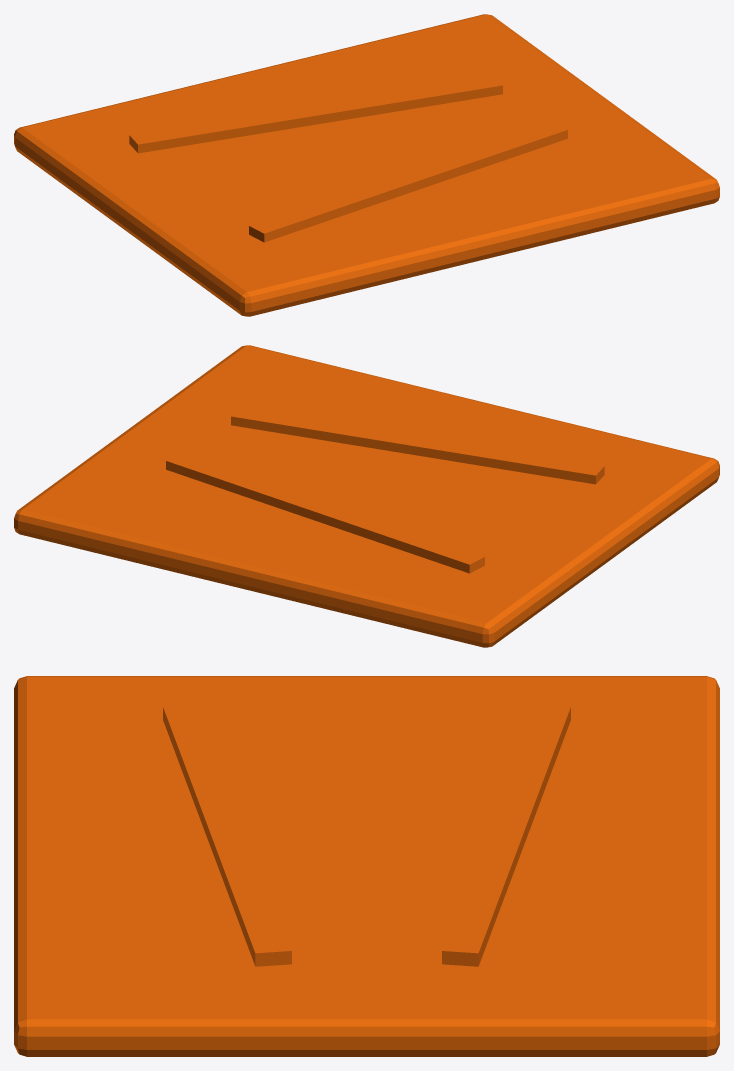
File: hood.obj
3 renders of one model, top to bottom at view 1: azimuth 30°, elevation 25°; view 2: azimuth 150°, elevation 25°; view 3: azimuth 270°, elevation 25°, orthographic. The views are drawn at different scales.
Parts seen in each view (by area): view 1: Cube; view 2: Cube; view 3: Cube.
Boxes of the visible parts, x1,y1,x2,y2 form: Cube: [14, 14, 719, 316]; Cube: [14, 345, 719, 647]; Cube: [14, 676, 719, 1056].
Bounding box in the file's own units: 1.02 × 0.071 × 0.86.
